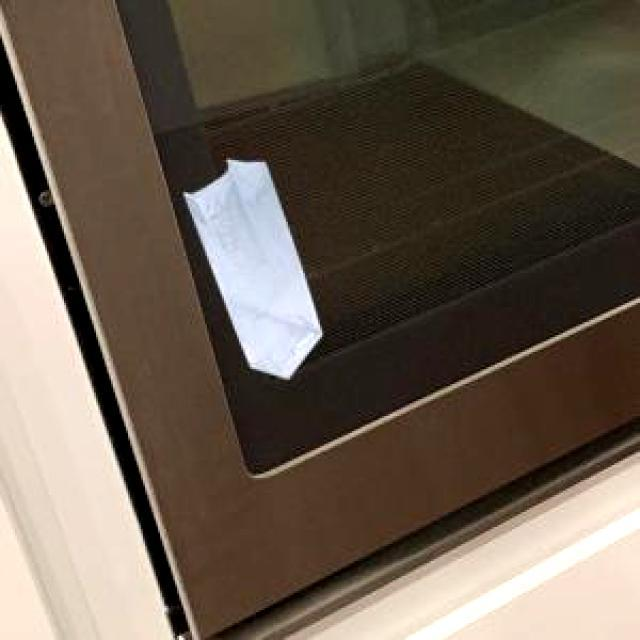Plastic_Bag: (182, 156, 319, 374)
